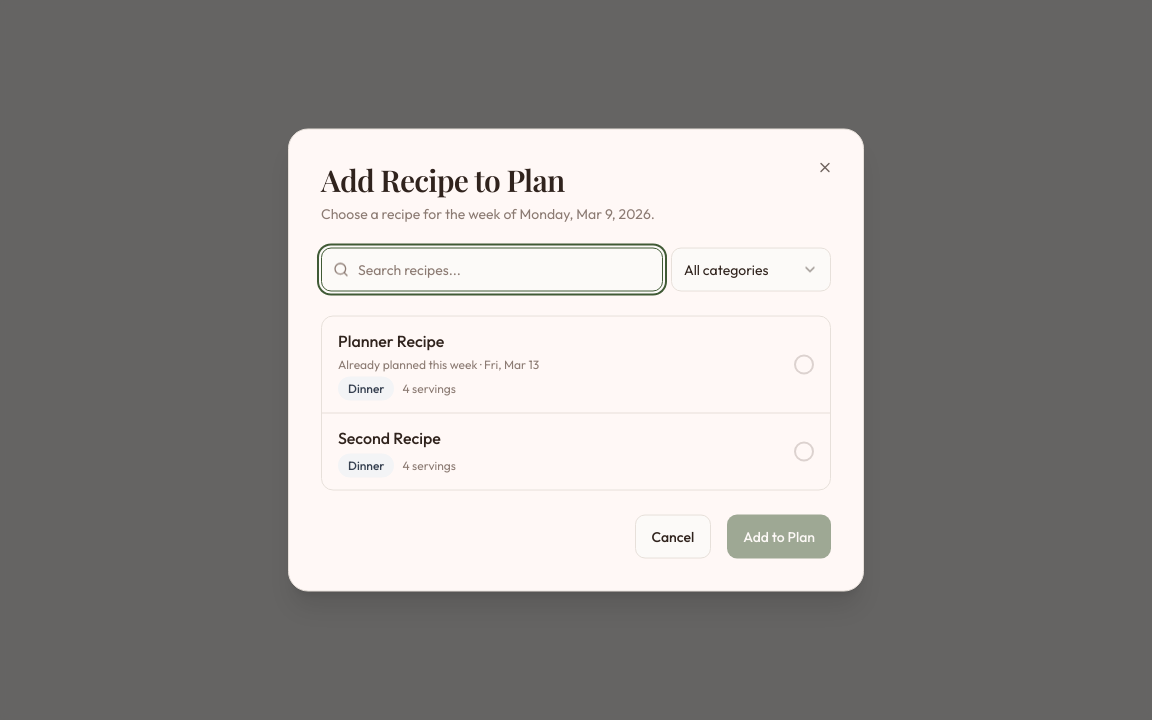
Scenario: AddRecipeToPlanModal › keeps the selected recipe and error context visible when adding fails
Click the button "Planner Recipe". click: x=391, y=340
box: [322,316,830,412]
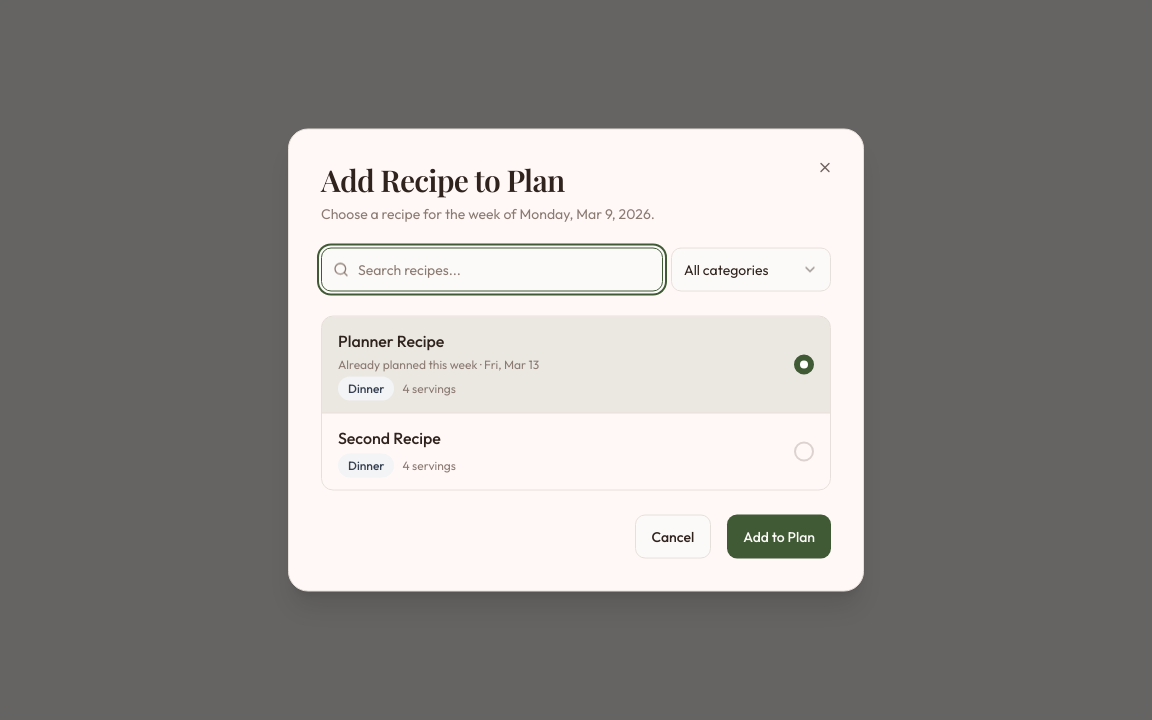
Click the button "Add to Plan". click: x=779, y=536
box: [727,514,831,558]
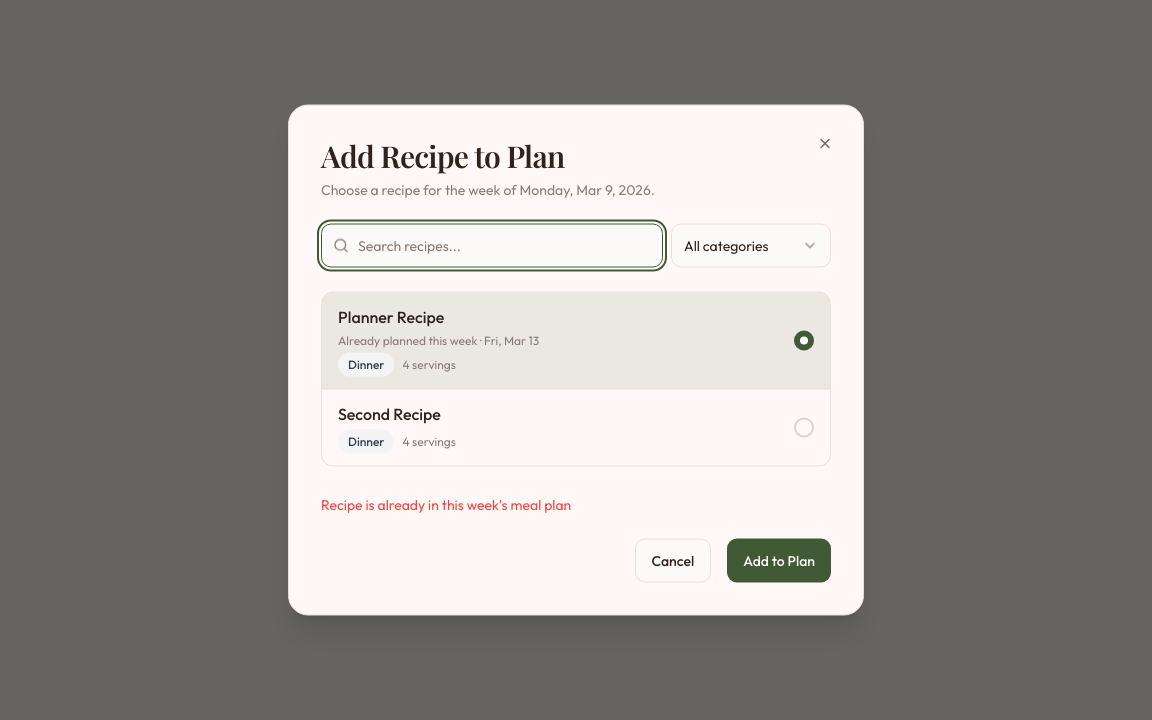
Result: the message reads "Recipe is already in this week's meal plan" at [321,496,571,514]
